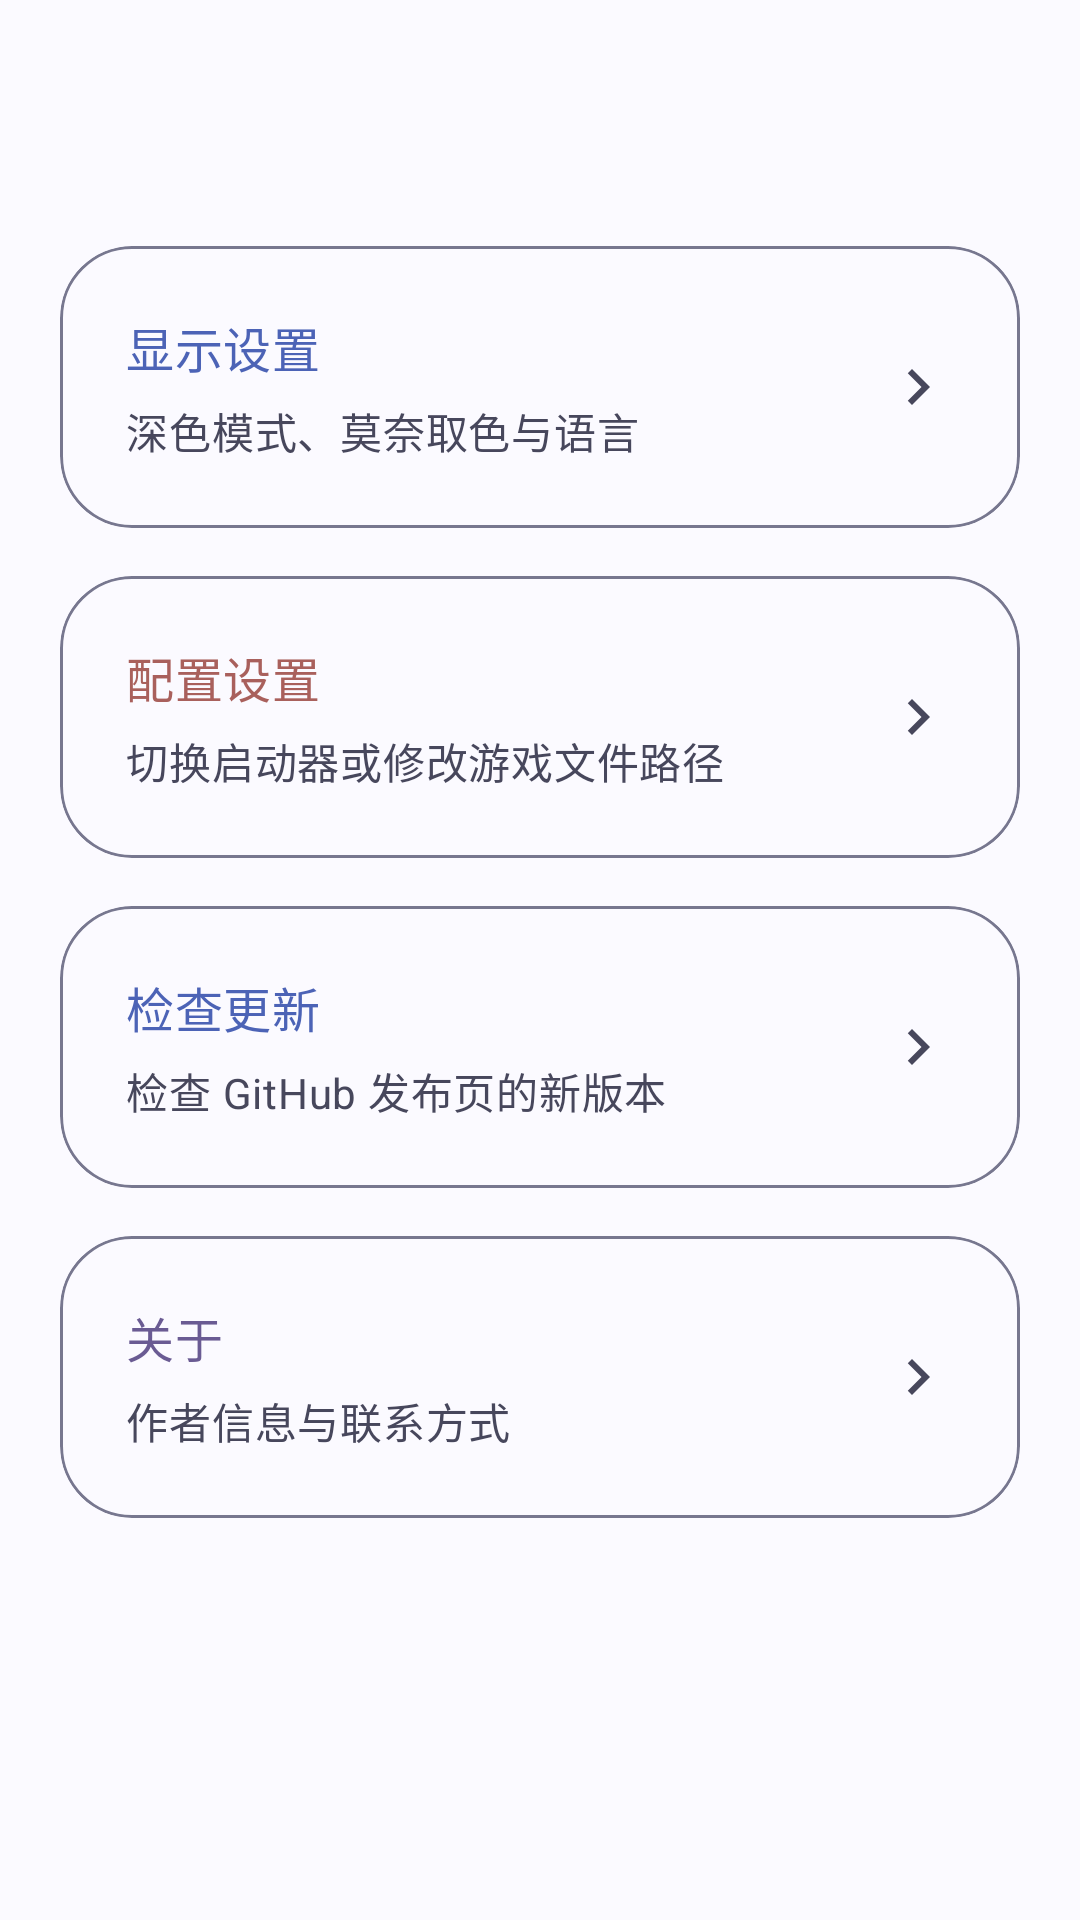

Where to tap for icons on this 1080w x 1920h app screen, as point (x, y):
chevron right: point (919, 387), point (919, 717), point (919, 1047), point (919, 1377)
